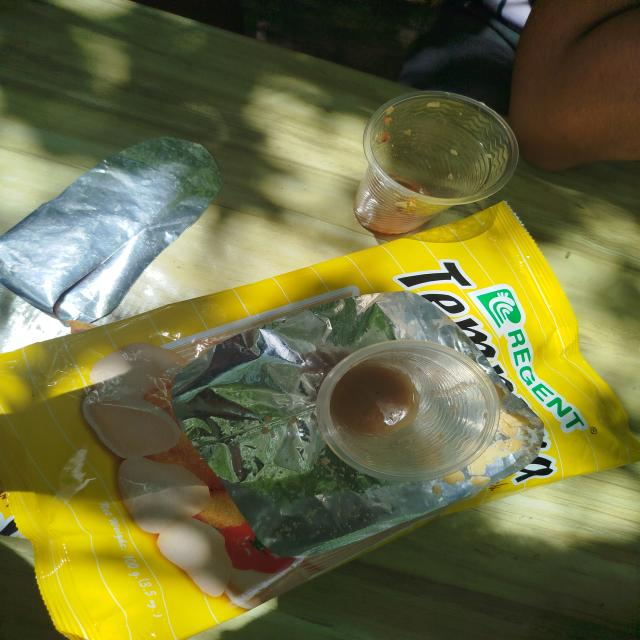residual: (0, 208, 640, 640), (305, 332, 528, 499), (335, 74, 523, 244)
